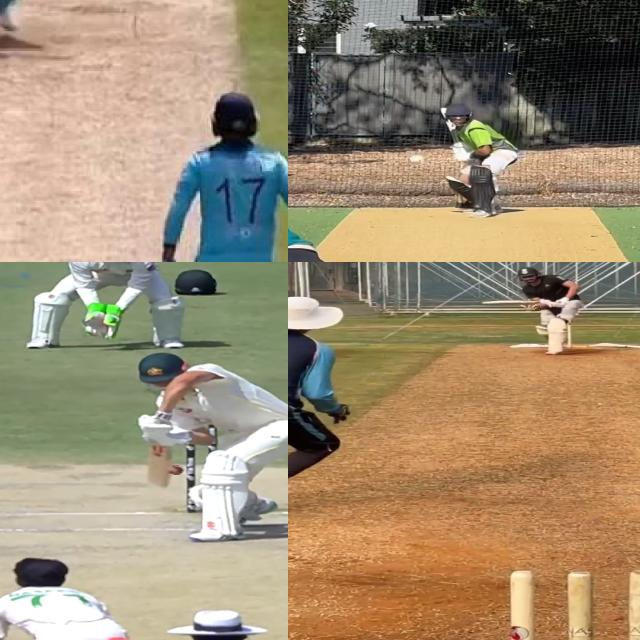Cricket ball: (406, 152, 428, 165), (169, 465, 184, 475), (536, 302, 550, 310)
Stumps: (508, 569, 640, 640)
